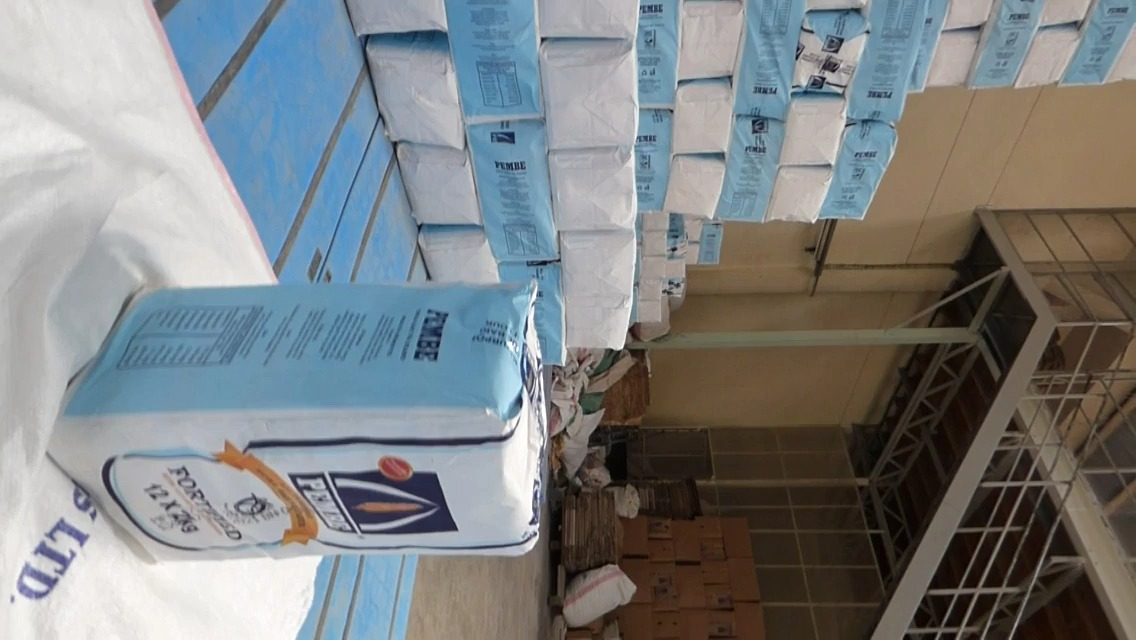wheat_flour_blue_label: (53, 284, 536, 555)
